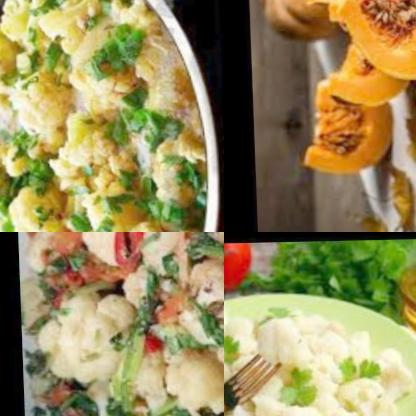cayliflower: (0, 0, 194, 232), (224, 306, 405, 416), (27, 275, 144, 383), (107, 343, 224, 416), (43, 232, 164, 280), (172, 262, 224, 360)
pumpkin: (299, 72, 394, 185), (328, 0, 416, 81), (324, 47, 409, 116), (247, 0, 343, 45)
tomato: (224, 242, 255, 297)
